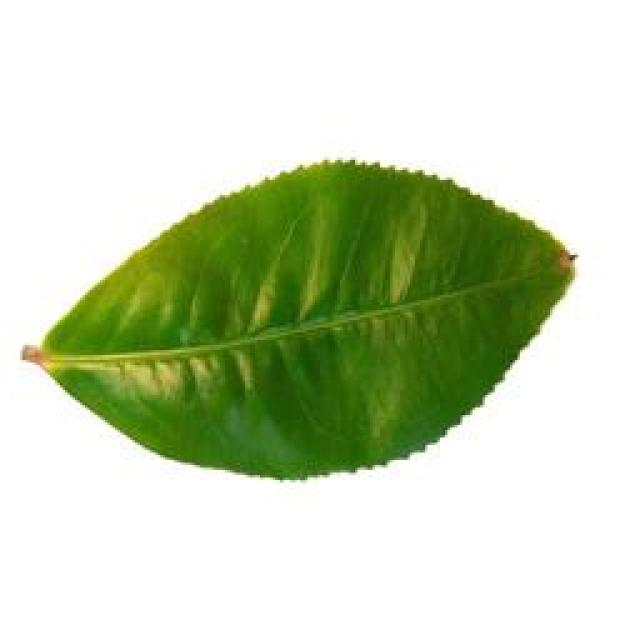Healthy: (16, 147, 580, 491)
